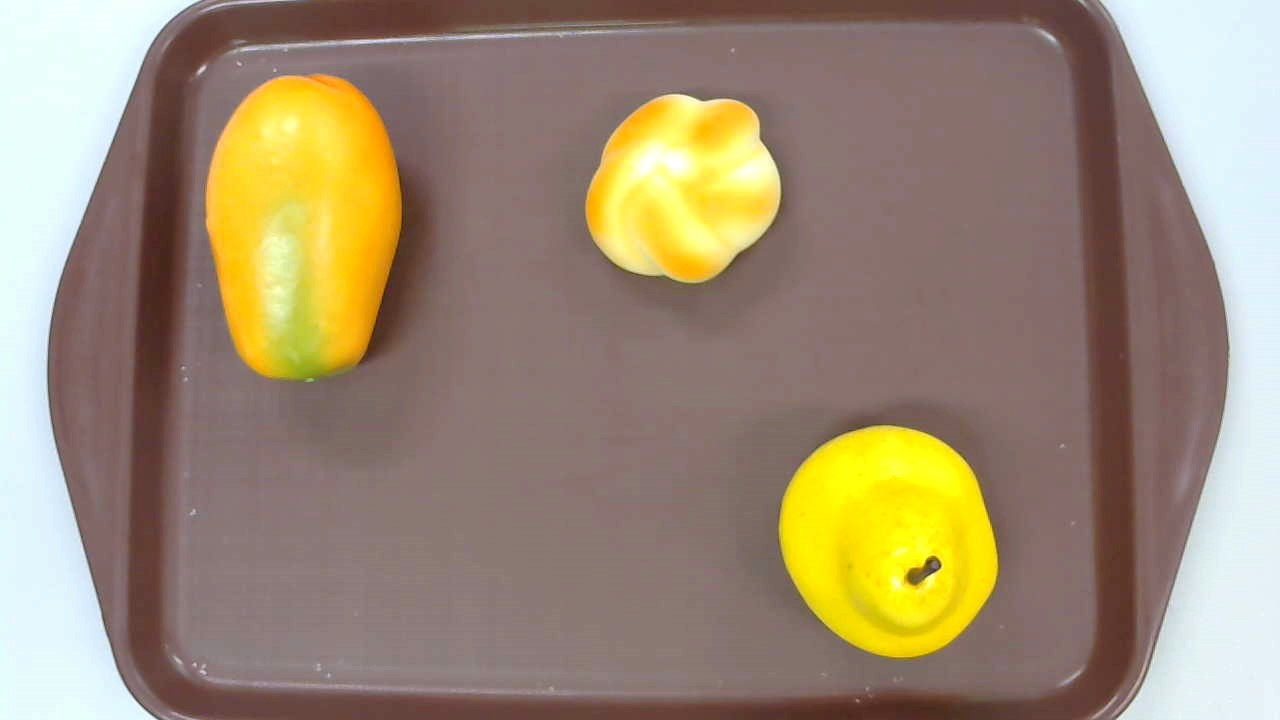papaya: (206, 72, 401, 386)
twist bread: (584, 93, 783, 284)
yellow pear: (779, 423, 997, 659)
